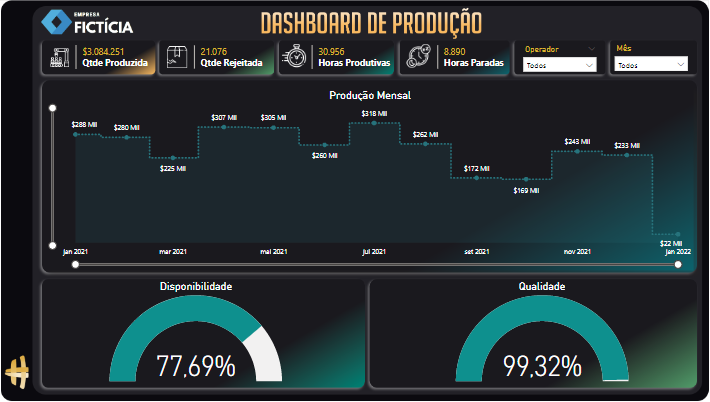

This screenshot's page, from the dashboard's own definition file:
{"tool":"powerbi","page":{"name":"Página 1","canvas":[1280,720],"ordinal":0},"visuals":[{"type":"multiRowCard","fields":{"Values":["BaseProdução (2).Qtde Produzida"]},"box":[137.1,75.7,147.1,54.3],"z":1000},{"type":"multiRowCard","fields":{"Values":["BaseProdução (2).Qtde Rejeitada"]},"box":[350,75.7,147.1,54.3],"z":2000},{"type":"multiRowCard","fields":{"Values":["BaseProdução (2).Horas Produtivas"]},"box":[561.4,75.7,155.7,54.3],"z":3000},{"type":"multiRowCard","fields":{"Values":["BaseProdução (2).Horas Paradas"]},"box":[787.1,75.7,137.1,54.3],"z":4000},{"type":"areaChart","title":"Produção Mensal","fields":{"Category":["BaseProdução (2).Data Inicial.Variation.Hierarquia de datas.Ano","BaseProdução (2).Data Inicial.Variation.Hierarquia de datas.Mês"],"Y":["BaseProdução (2).Qtde Produzida"]},"box":[90,158.6,1162.9,327.1],"z":5000},{"type":"gauge","fields":{"Y":["BaseProdução (2).Disponibilidade"]},"box":[72.9,502.9,571.4,187.1],"z":5001},{"type":"gauge","fields":{"Y":["BaseProdução (2).Qualidade"]},"box":[681.4,502.9,598.6,187.1],"z":5002},{"type":"slicer","fields":{"Values":["BaseProdução (2).Operador"]},"box":[937.1,74.3,151.4,54.3],"z":5003},{"type":"slicer","fields":{"Values":["BaseProdução (2).Data Inicial.Variation.Hierarquia de datas.Mês"]},"box":[1101.4,72.9,151.4,54.3],"z":5004},{"type":"image","box":[730,72.9,57.1,54.3],"z":5005},{"type":"image","box":[508.6,72.9,52.9,52.9],"z":5006},{"type":"image","box":[90,77.1,47.1,51.4],"z":5007},{"type":"image","box":[301.4,72.9,48.6,58.6],"z":5008},{"type":"image","box":[72.9,0,178.6,72.9],"z":5009}]}

Visuals, with their boxes in screenshot pixels (x1, y1, x2, y2), scaled from the page's 1280x720 canvas onto the 710x402 screenshot:
multiRowCard - BaseProdução (2).Qtde Produzida: (76, 42, 158, 73)
multiRowCard - BaseProdução (2).Qtde Rejeitada: (194, 42, 276, 73)
multiRowCard - BaseProdução (2).Horas Produtivas: (311, 42, 398, 73)
multiRowCard - BaseProdução (2).Horas Paradas: (437, 42, 513, 73)
"Produção Mensal" areaChart: (50, 89, 695, 271)
gauge - BaseProdução (2).Disponibilidade: (40, 281, 357, 385)
gauge - BaseProdução (2).Qualidade: (378, 281, 709, 385)
slicer - BaseProdução (2).Operador: (520, 41, 604, 72)
slicer - BaseProdução (2).Data Inicial.Variation.Hierarquia de datas.Mês: (611, 41, 695, 71)
image: (405, 41, 437, 71)
image: (282, 41, 311, 70)
image: (50, 43, 76, 72)
image: (167, 41, 194, 73)
image: (40, 0, 140, 41)
